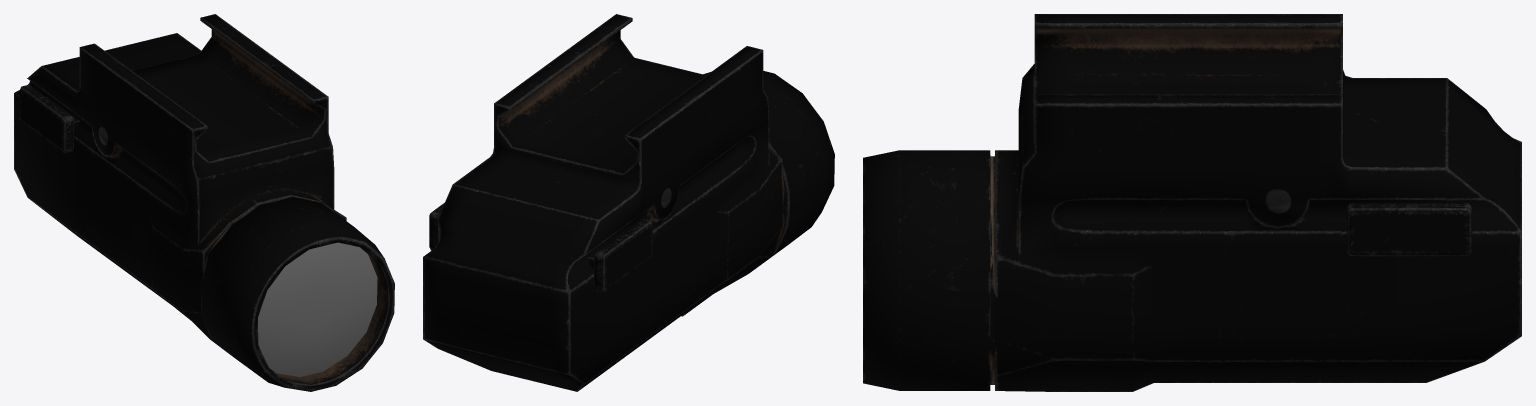
File: PistolFlashlight.fbx
3 views of the same model, side by side, from view 1: azimuth 30°, elevation 25°; view 2: azimuth 150°, elevation 25°; view 3: azimuth 270°, elevation 25° (orthographic). The views are drawn at different scales.
Parts seen in each view (by area): view 1: Flashlight, Button; view 2: Flashlight, Button; view 3: Flashlight, Button.
Boxes of the visible parts, x1=… form: Flashlight: x1=14, y1=14, x2=394, y2=391; Button: x1=19, y1=84, x2=79, y2=153; Flashlight: x1=423, y1=14, x2=834, y2=391; Button: x1=429, y1=203, x2=652, y2=292; Flashlight: x1=863, y1=14, x2=1521, y2=391; Button: x1=1347, y1=202, x2=1472, y2=256.
Bounding box in the file's own units: 2.99 × 4.11 × 7.66.
